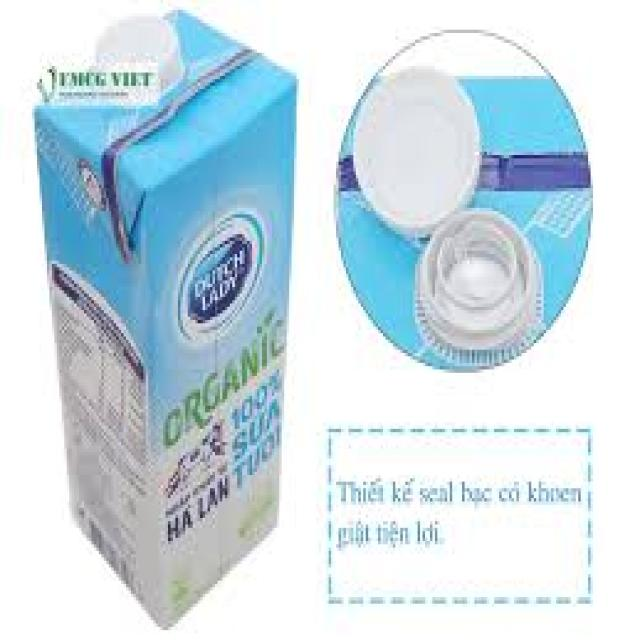milk: (32, 30, 308, 640)
